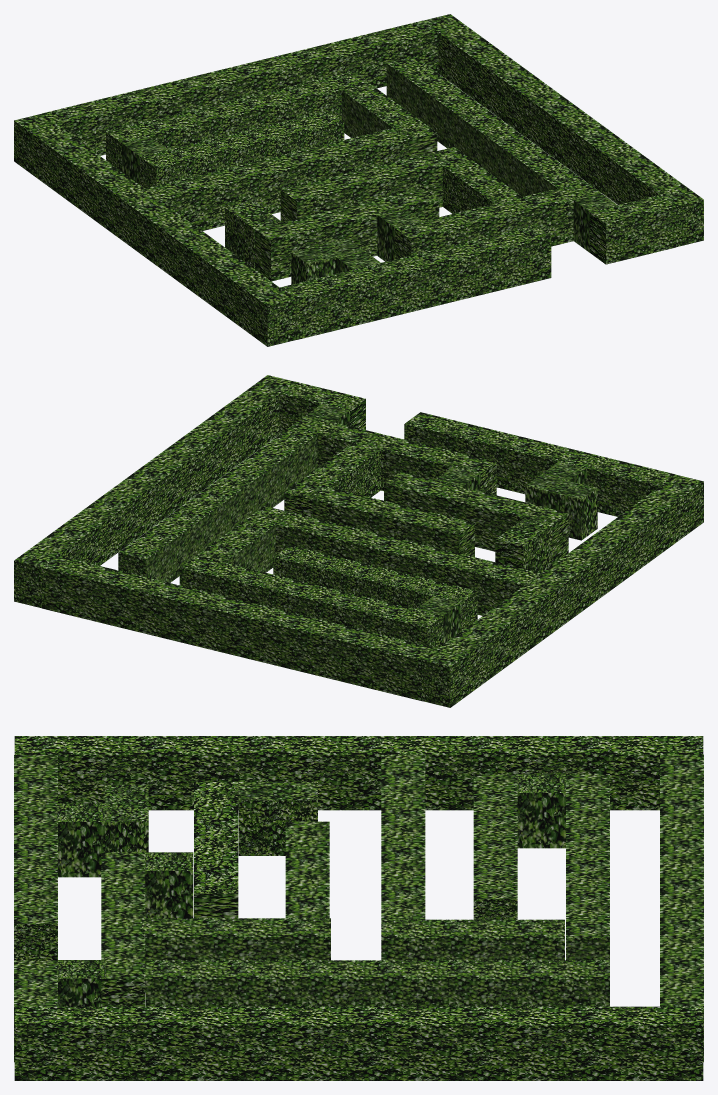
File: laberinto.FBX
3 views of the same model, one above another, from view 1: azimuth 30°, elevation 25°; view 2: azimuth 150°, elevation 25°; view 3: azimuth 270°, elevation 25° (orthographic). The views are drawn at different scales.
Visible parts, largest first — view 1: Box003, Box004, Box002, Box001, Box016, Box017, Box019, Box020, Box012, Box011, Box013, Box005 (+8 smaller); view 2: Box001, Box003, Box004, Box016, Box002, Box019, Box017, Box011, Box020, Box013, Box012, Box007 (+8 smaller); view 3: Box004, Box003, Box016, Box001, Box002, Box019, Box007, Box018, Box017, Box012, Box020, Box011 (+8 smaller).
Part boxes in pixels (left/top/right/bottom): Box003: left=14, top=113, right=295, bottom=346; Box004: left=422, top=14, right=703, bottom=247; Box002: left=280, top=225, right=551, bottom=339; Box001: left=42, top=21, right=438, bottom=155; Box016: left=386, top=56, right=585, bottom=196; Box017: left=142, top=127, right=409, bottom=230; Box019: left=106, top=71, right=369, bottom=171; Box020: left=140, top=110, right=344, bottom=188; Box012: left=395, top=181, right=600, bottom=259; Box011: left=254, top=188, right=439, bottom=281; Box013: left=280, top=154, right=442, bottom=221; Box005: left=589, top=195, right=675, bottom=264; Box001: left=42, top=556, right=437, bottom=700; Box003: left=422, top=474, right=703, bottom=707; Box004: left=14, top=375, right=295, bottom=608; Box016: left=118, top=427, right=317, bottom=582; Box002: left=404, top=412, right=675, bottom=516; Box019: left=179, top=556, right=443, bottom=648; Box017: left=275, top=513, right=542, bottom=615; Box011: left=384, top=472, right=568, bottom=564; Box020: left=273, top=545, right=477, bottom=631; Box013: left=313, top=487, right=474, bottom=557; Box012: left=289, top=415, right=496, bottom=495; Box007: left=284, top=442, right=380, bottom=517; Box004: left=14, top=1006, right=703, bottom=1080; Box003: left=14, top=736, right=703, bottom=810; Box016: left=145, top=960, right=609, bottom=1006; Box001: left=660, top=754, right=703, bottom=1062; Box002: left=14, top=755, right=57, bottom=960; Box019: left=566, top=774, right=609, bottom=960; Box007: left=141, top=918, right=330, bottom=992; Box018: left=381, top=919, right=564, bottom=960; Box017: left=381, top=754, right=425, bottom=919; Box012: left=101, top=852, right=145, bottom=1006; Box020: left=473, top=774, right=517, bottom=919; Box011: left=194, top=782, right=238, bottom=918.
Size of the model in its own units: 246 by 22 by 248.
1 material, 1 textured.
